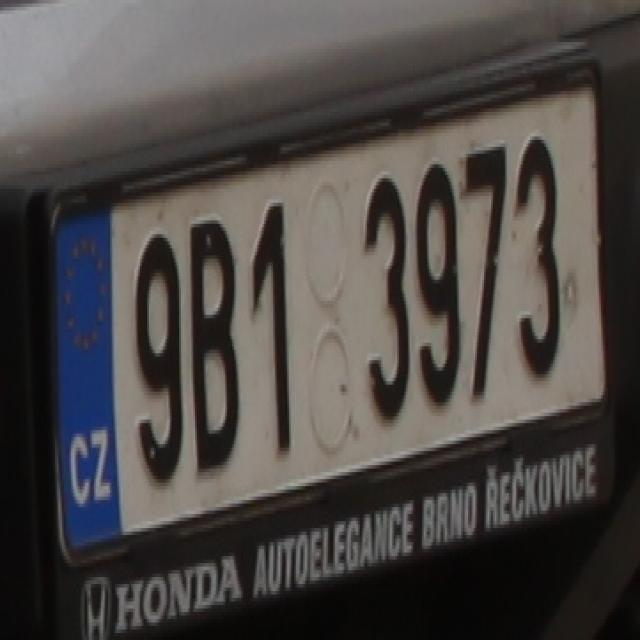1: (248, 206, 305, 472)
3: (514, 126, 564, 382), (362, 171, 412, 420)
7: (464, 136, 510, 410)
9: (131, 230, 181, 490), (417, 157, 462, 406)
B: (186, 213, 236, 479)
